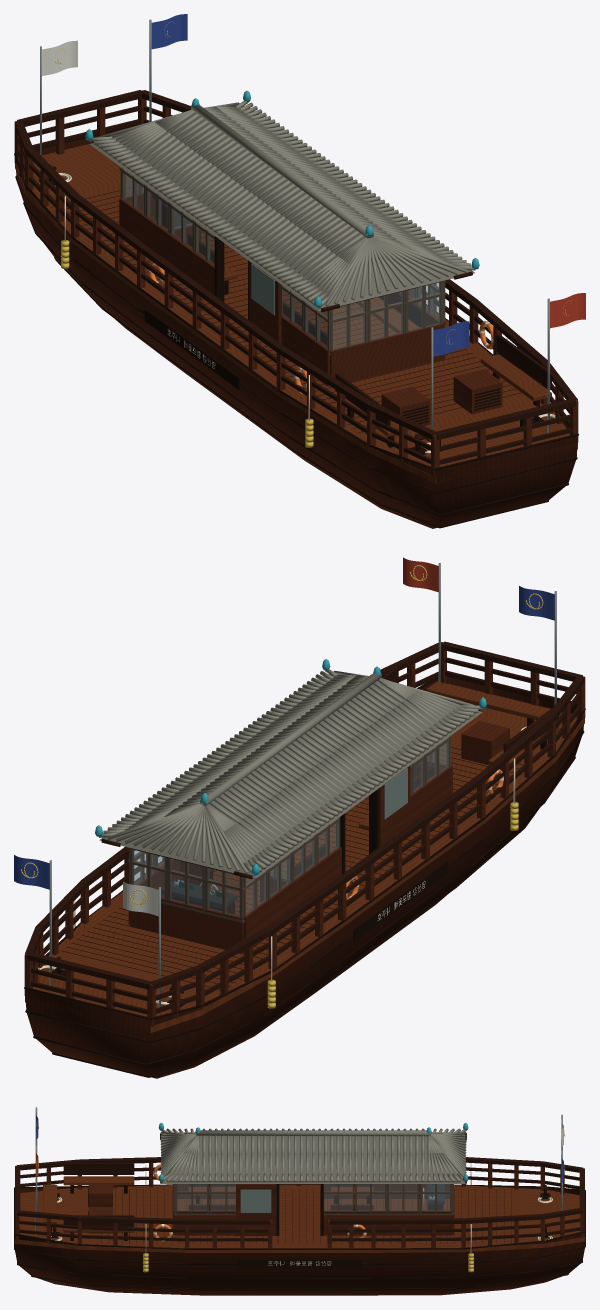
File: najuho.glb
3 renders of one model, top to bottom at view 1: azimuth 30°, elevation 25°; view 2: azimuth 150°, elevation 25°; view 3: azimuth 270°, elevation 25°, orthographic. The views are drawn at different scales.
Visible parts, largest first — view 1: timber_hull_najuho, ground_floor_boat_deck, hanok_hip_roof, hanok_passenger_cabin_end_wall.001, hanok_passenger_cabin_side_boarded_wall, hanok_ridge, continuous_timber_handrail.011, ventilated_deck_chest.001, hanok_passenger_cabin_side_boarded_wall.001, continuous_timber_handrail.008, vessel_nameplate, rear_outside_bench_seat.001 (+23 smaller); view 2: timber_hull_najuho, ground_floor_boat_deck, hanok_hip_roof, hanok_passenger_cabin_end_wall, hanok_passenger_cabin_side_boarded_wall, hanok_ridge, continuous_timber_handrail.011, rear_transom_bench_seat, ventilated_deck_chest, hanok_passenger_cabin_side_boarded_wall.001, vessel_nameplate, continuous_timber_handrail.008 (+16 smaller); view 3: timber_hull_najuho, ground_floor_boat_deck, hanok_hip_roof, hanok_passenger_cabin_side_boarded_wall.002, hanok_ridge, vessel_nameplate.001, hanok_passenger_cabin_open_door_leaf.001, hanok_passenger_cabin_side_boarded_wall.003, hanok_passenger_cabin_side_boarded_wall, rear_outside_bench_back, hanok_passenger_cabin_open_door_glass.001, hanok_passenger_cabin_side_window_glass.013 (+37 smaller).
Boxes of the visible parts, bbox=[...] form: timber_hull_najuho: bbox=[16, 125, 577, 528]; ground_floor_boat_deck: bbox=[15, 143, 577, 483]; hanok_hip_roof: bbox=[89, 106, 474, 311]; hanok_passenger_cabin_end_wall.001: bbox=[330, 323, 444, 382]; hanok_passenger_cabin_side_boarded_wall: bbox=[119, 198, 214, 294]; hanok_ridge: bbox=[191, 105, 373, 238]; continuous_timber_handrail.011: bbox=[137, 244, 283, 352]; ventilated_deck_chest.001: bbox=[453, 369, 502, 414]; hanok_passenger_cabin_side_boarded_wall.001: bbox=[281, 313, 329, 386]; continuous_timber_handrail.008: bbox=[434, 398, 575, 440]; vessel_nameplate: bbox=[144, 309, 239, 389]; rear_outside_bench_seat.001: bbox=[481, 354, 551, 401]; timber_hull_najuho: bbox=[25, 676, 583, 1078]; ground_floor_boat_deck: bbox=[25, 683, 584, 1032]; hanok_hip_roof: bbox=[99, 674, 482, 878]; hanok_passenger_cabin_end_wall: bbox=[130, 896, 243, 953]; hanok_passenger_cabin_side_boarded_wall: bbox=[243, 847, 341, 952]; hanok_ridge: bbox=[200, 673, 381, 805]; continuous_timber_handrail.011: bbox=[339, 775, 484, 883]; rear_transom_bench_seat: bbox=[426, 681, 548, 719]; ventilated_deck_chest: bbox=[461, 721, 509, 765]; hanok_passenger_cabin_side_boarded_wall.001: bbox=[410, 766, 452, 823]; vessel_nameplate: bbox=[353, 861, 447, 941]; continuous_timber_handrail.008: bbox=[443, 641, 582, 681]; timber_hull_najuho: bbox=[14, 1187, 585, 1295]; ground_floor_boat_deck: bbox=[14, 1184, 585, 1252]; hanok_hip_roof: bbox=[161, 1134, 465, 1183]; hanok_passenger_cabin_side_boarded_wall.002: bbox=[323, 1210, 451, 1235]; hanok_ridge: bbox=[196, 1130, 430, 1136]; vessel_nameplate.001: bbox=[237, 1259, 362, 1267]; hanok_passenger_cabin_open_door_leaf.001: bbox=[236, 1184, 275, 1235]; hanok_passenger_cabin_side_boarded_wall.003: bbox=[175, 1210, 276, 1235]; hanok_passenger_cabin_side_boarded_wall: bbox=[324, 1184, 449, 1198]; rear_outside_bench_back: bbox=[63, 1163, 134, 1174]; hanok_passenger_cabin_open_door_glass.001: bbox=[240, 1189, 271, 1212]; hanok_passenger_cabin_side_window_glass.013: bbox=[177, 1184, 206, 1210].
Size of the model in its own units: 5.8 by 6.05 by 21.06.
27 materials, 5 textured.
